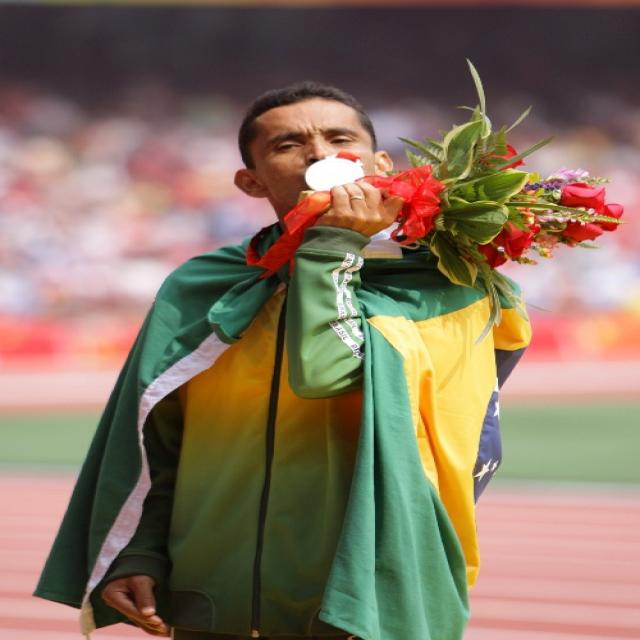nomask: (253, 106, 379, 226)
